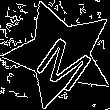M_NE: (26, 21, 95, 88)
